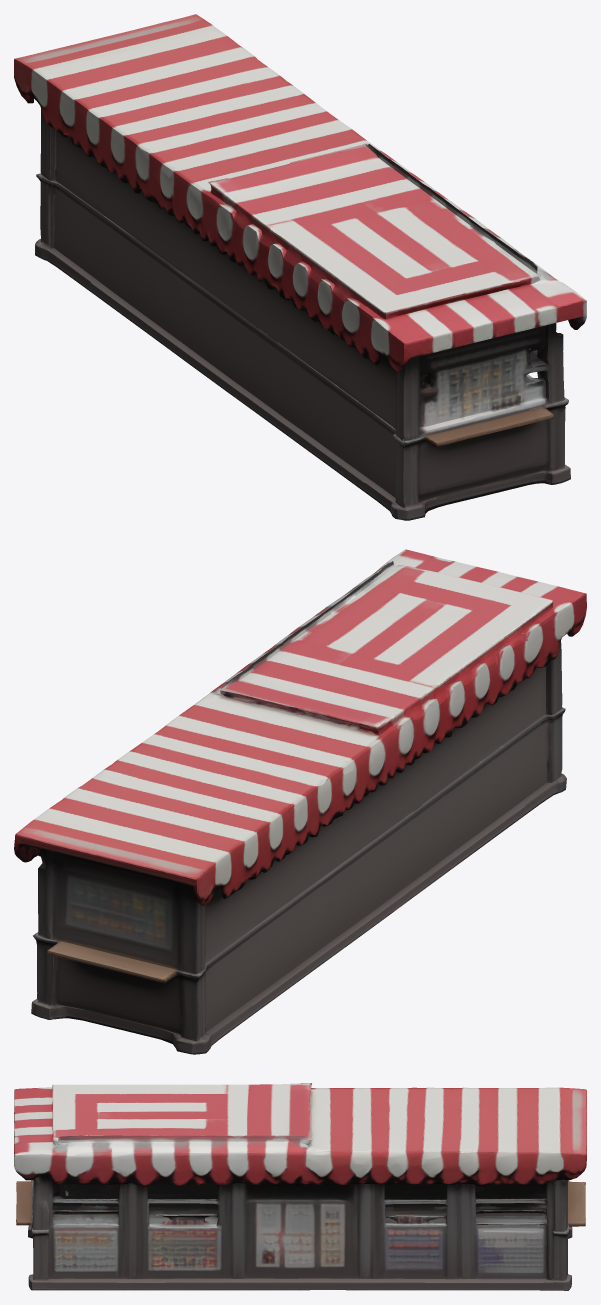
File: newsstand.glb
The picture shows the model from 3 angles, top to bottom: view 1: azimuth 30°, elevation 25°; view 2: azimuth 150°, elevation 25°; view 3: azimuth 270°, elevation 25°; orthographic projection. The views are drawn at different scales.
Visible parts, largest first — view 1: geometry_0; view 2: geometry_0; view 3: geometry_0.
Boxes of the visible parts, x1,y1,x2,y2 form: geometry_0: (14,14,586,520); geometry_0: (14,549,586,1054); geometry_0: (14,1083,586,1290).
Size of the model in its own units: 0.2755 by 0.2893 by 1.
1 material, 1 textured.
